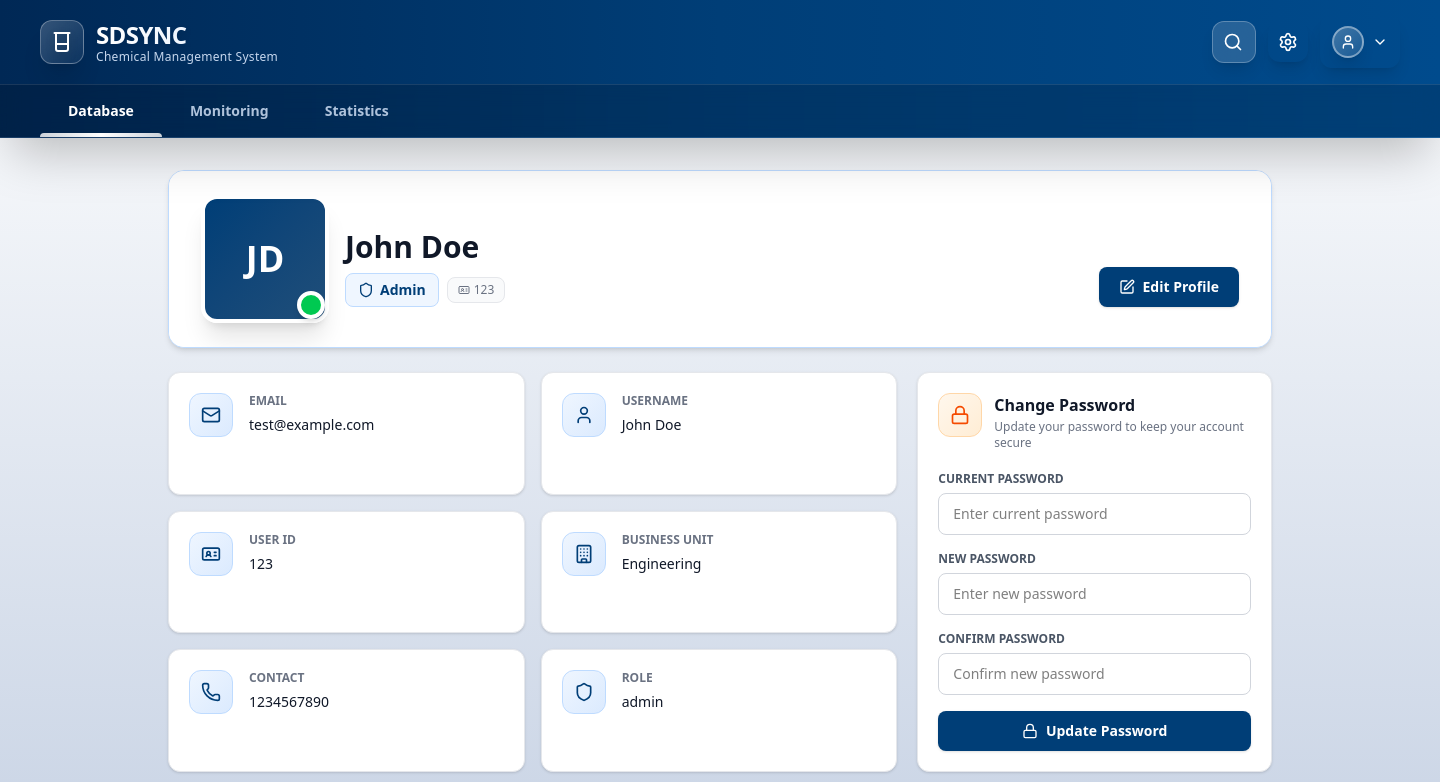
Test case: Profile page › password change form validates matching passwords
In the password field labelled "Current Password": (1095, 514) [938, 493, 1251, 535], type "oldpass123"
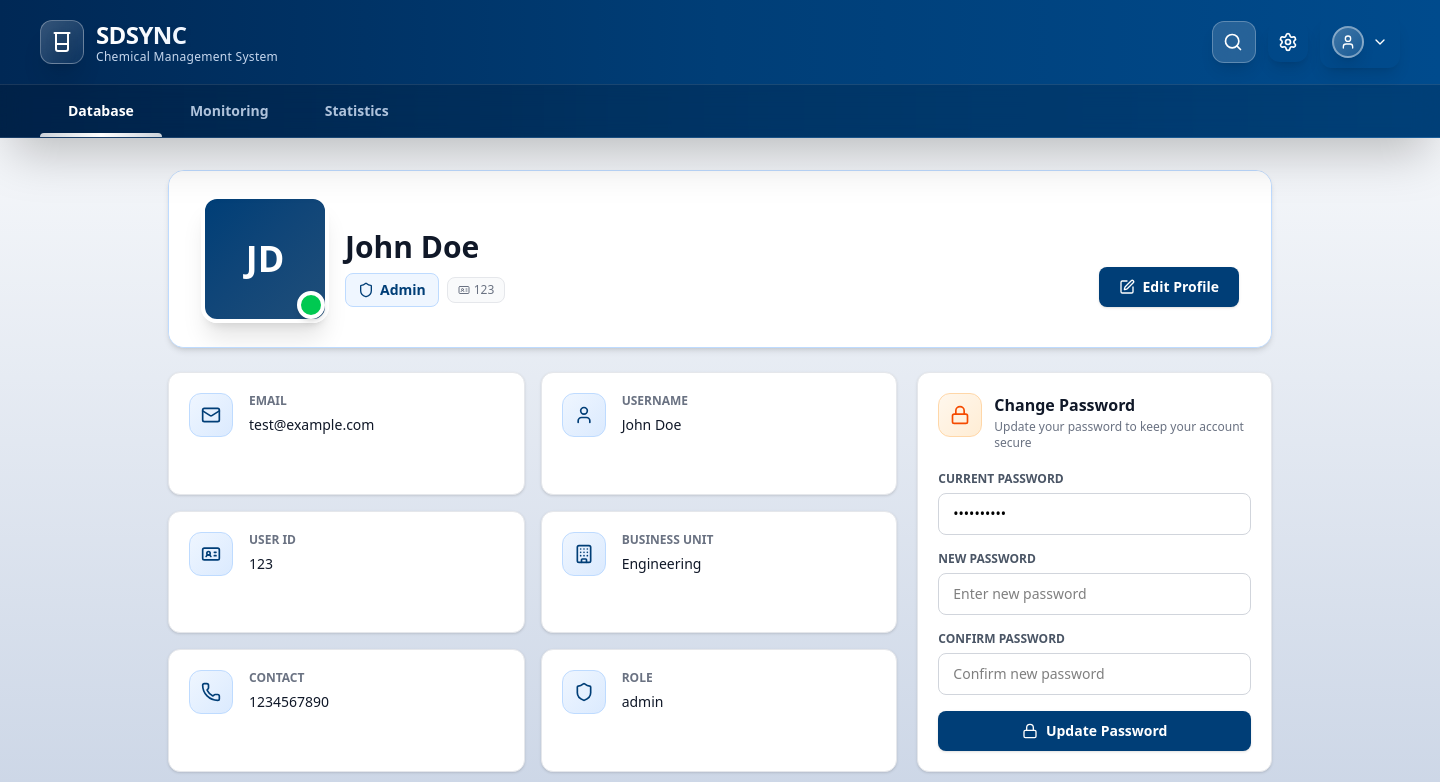
In the password field labelled "New Password": (1095, 594) [938, 573, 1251, 615], type "newpass123"
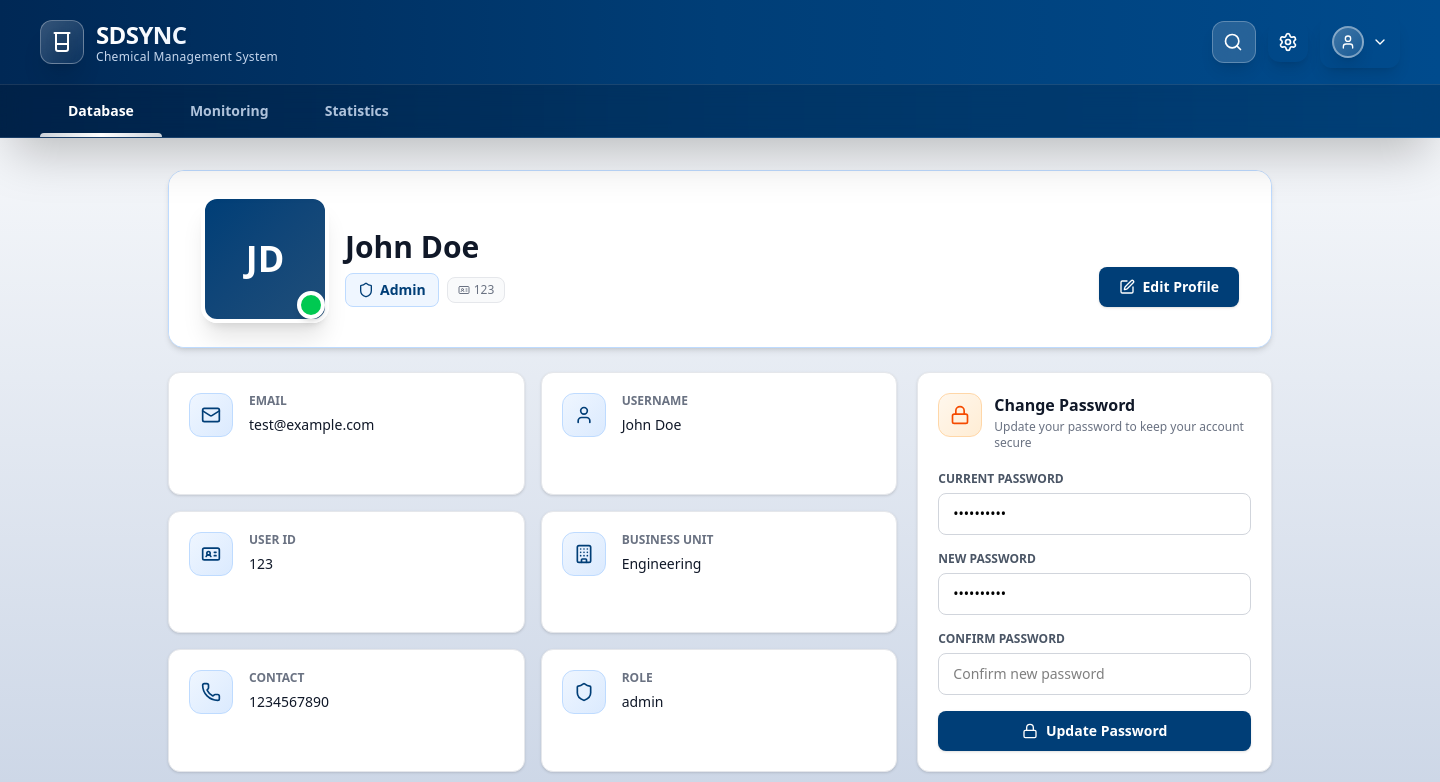
In the password field labelled "Confirm Password": (1095, 674) [938, 653, 1251, 695], type "different123"
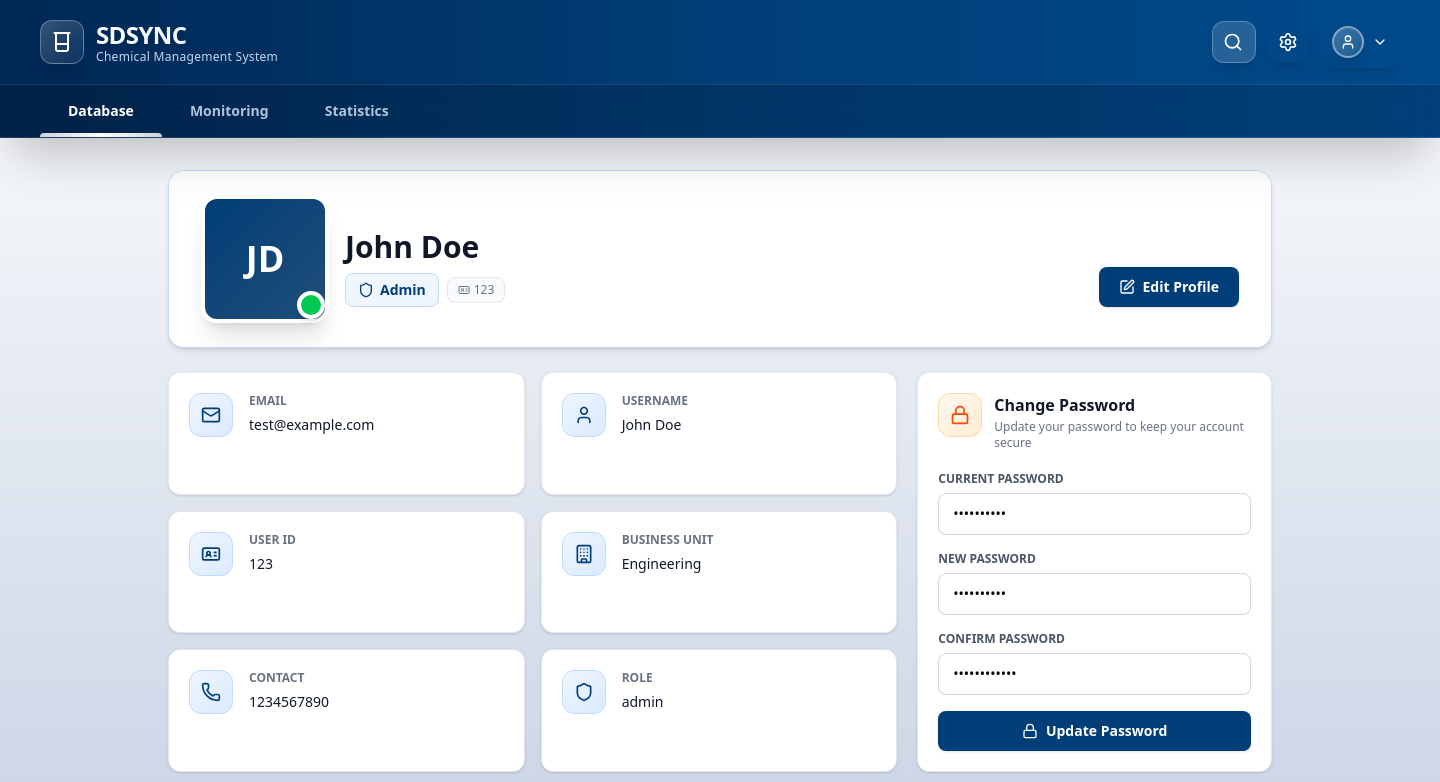
Click the button "Update Password": (1095, 731) [938, 711, 1251, 751]
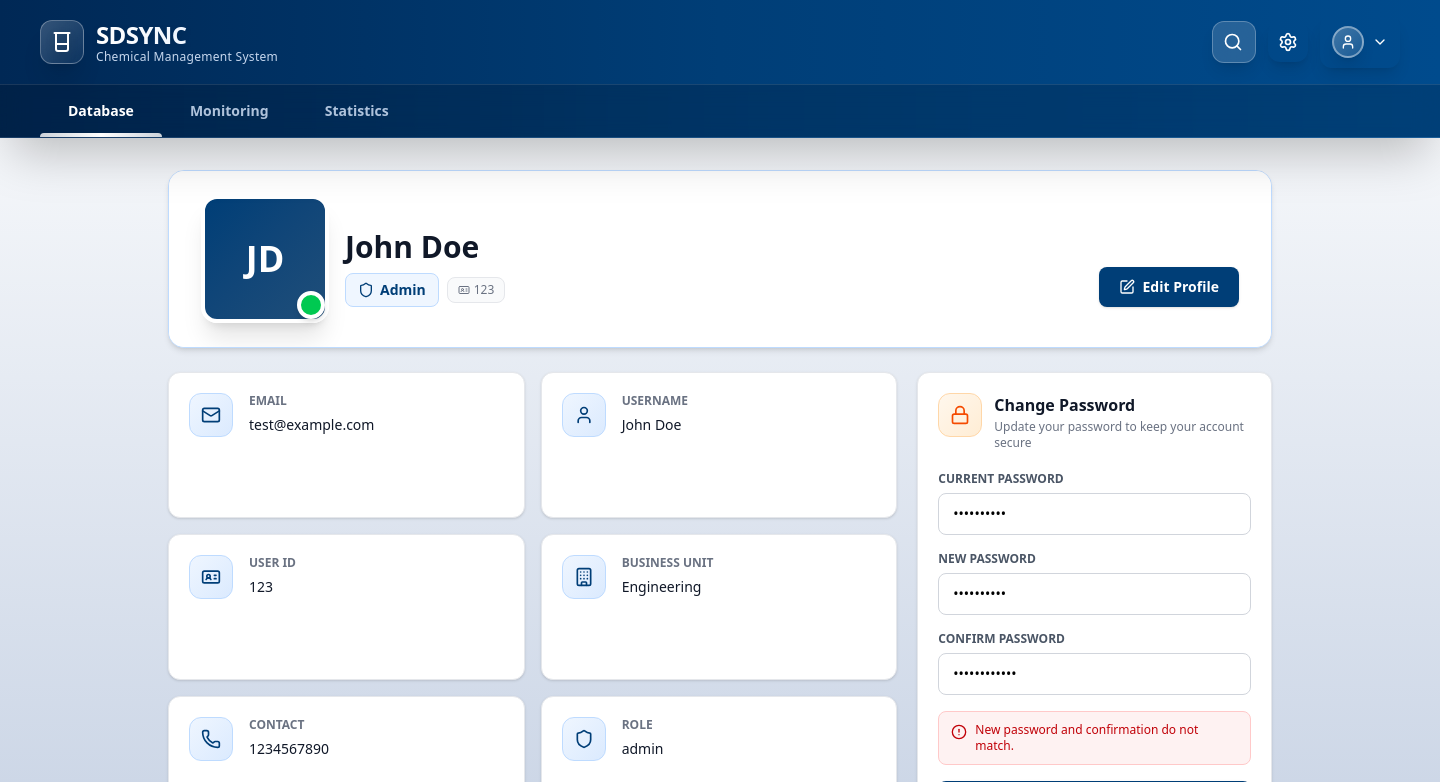
Now the text "New password and confirmation do not match." is shown, box [975, 721, 1198, 754]
